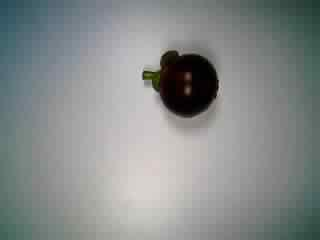mangosteen: (137, 43, 225, 129)
